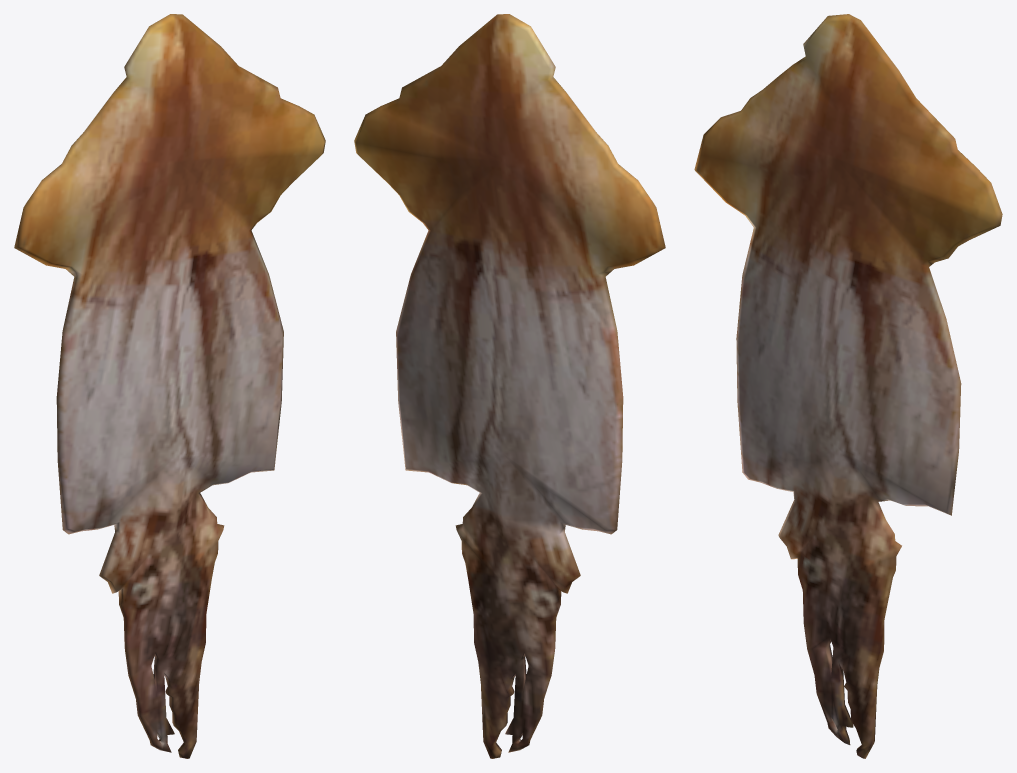
File: Squid.fbx
3 renders of one model, left to right at view 1: azimuth 30°, elevation 25°; view 2: azimuth 150°, elevation 25°; view 3: azimuth 330°, elevation 25°, orthographic.
Visible parts, largest first — view 1: squid; view 2: squid; view 3: squid.
Boxes of the visible parts, x1,y1,x2,y2 form: squid: [14, 14, 325, 758]; squid: [354, 14, 665, 758]; squid: [694, 14, 1002, 758].
Size of the model in its own units: 17.23 by 39.58 by 1.96.
1 material, 1 textured.
